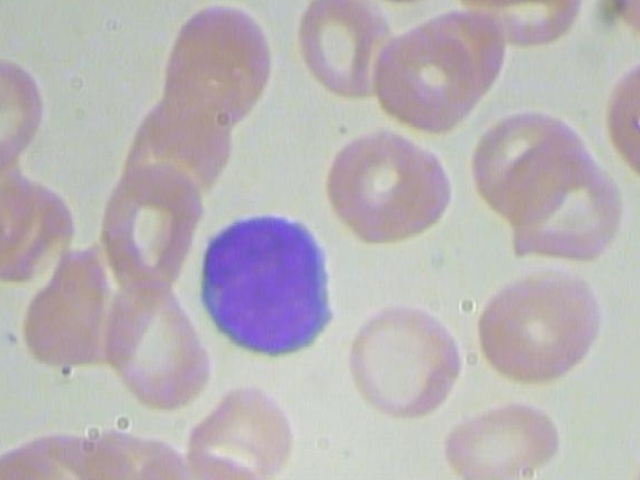Platelets: (0, 0, 18, 2)
RBC: (465, 263, 610, 396), (312, 123, 459, 254), (497, 129, 624, 271), (144, 0, 291, 119), (91, 283, 219, 417), (84, 156, 212, 290), (340, 291, 466, 419), (175, 374, 302, 480), (445, 391, 596, 480), (371, 21, 486, 132), (285, 0, 398, 95), (598, 57, 640, 182), (598, 0, 640, 42)
WBC: (201, 206, 337, 357)
